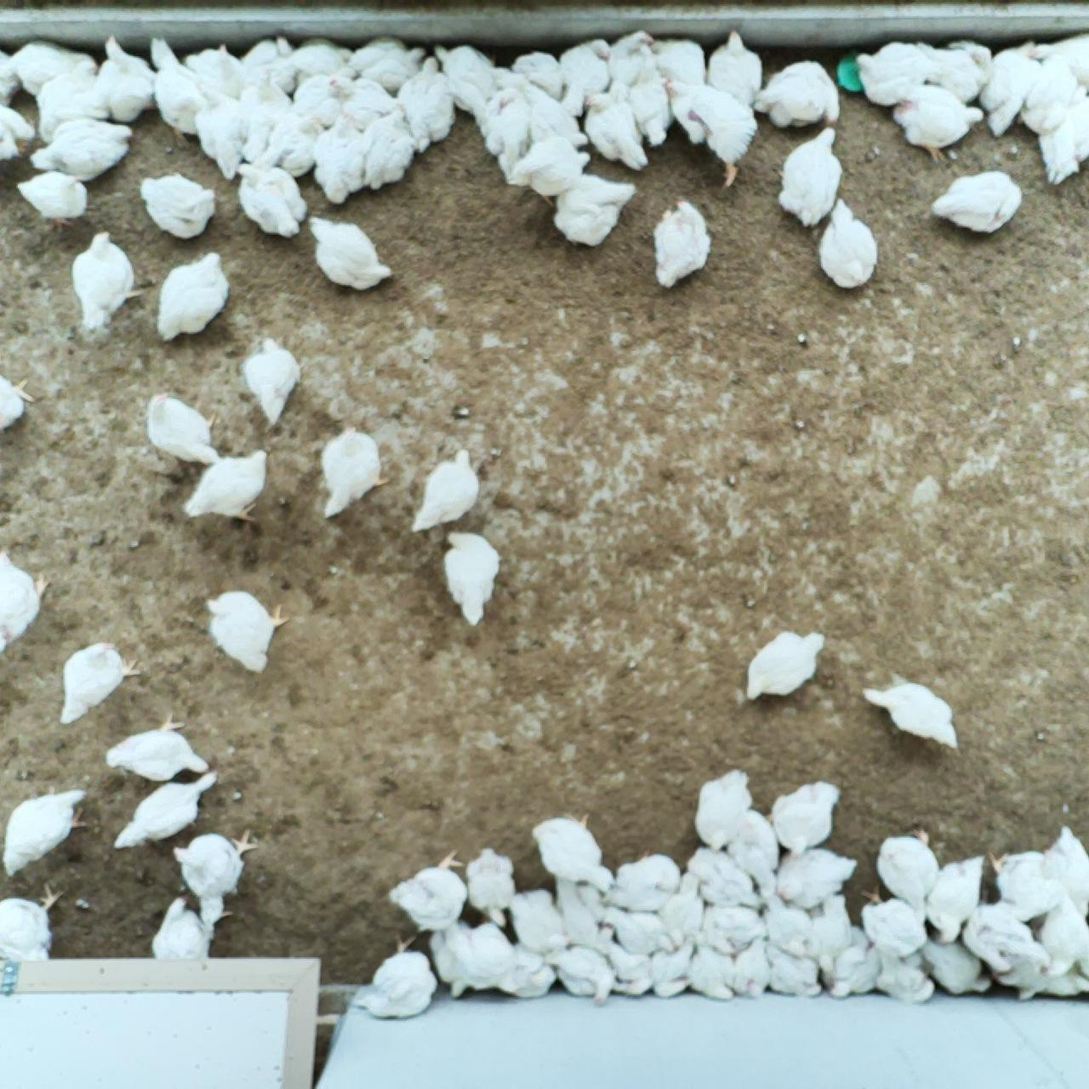chicken: (664, 74, 755, 187), (116, 768, 221, 853), (174, 829, 264, 925), (484, 100, 580, 184), (148, 34, 220, 141), (1, 790, 89, 876), (353, 931, 439, 1019), (204, 586, 288, 674), (101, 713, 212, 779), (70, 229, 143, 329), (887, 86, 986, 158), (976, 40, 1050, 135), (60, 640, 140, 727), (30, 118, 138, 182), (318, 424, 388, 521), (182, 448, 275, 521), (861, 684, 963, 750), (754, 60, 844, 134), (157, 251, 234, 337), (778, 129, 845, 227), (430, 918, 510, 1000), (536, 811, 614, 894), (310, 216, 392, 294), (390, 847, 468, 929), (546, 867, 621, 952), (409, 447, 481, 534), (553, 175, 635, 251), (745, 631, 828, 703), (874, 829, 940, 919), (144, 389, 222, 464), (989, 848, 1068, 921), (234, 67, 295, 161), (0, 544, 54, 650), (149, 893, 233, 961), (932, 172, 1024, 234), (765, 779, 844, 851), (237, 161, 310, 238), (94, 34, 159, 120), (964, 902, 1045, 971), (921, 855, 988, 938), (399, 58, 457, 153), (905, 44, 998, 103), (517, 129, 590, 204), (444, 530, 501, 626), (859, 887, 937, 957), (138, 172, 219, 239), (817, 200, 877, 290), (650, 197, 710, 286), (244, 333, 302, 425), (704, 30, 770, 110), (313, 115, 372, 203), (584, 93, 648, 174), (34, 73, 110, 141), (773, 849, 861, 907), (1038, 87, 1089, 187), (360, 111, 422, 193), (0, 886, 66, 963), (434, 44, 509, 111), (609, 845, 682, 913), (916, 934, 994, 997), (258, 106, 324, 180), (344, 34, 431, 90), (801, 894, 857, 981), (549, 940, 619, 1009), (232, 33, 305, 99), (13, 43, 99, 99), (692, 772, 754, 849), (464, 844, 520, 928), (603, 24, 669, 95), (821, 928, 887, 999), (558, 35, 617, 114), (1017, 58, 1079, 133), (15, 170, 89, 232), (725, 806, 780, 889), (1025, 30, 1089, 99), (509, 886, 573, 954), (854, 44, 929, 102), (197, 94, 248, 178), (467, 66, 540, 123), (984, 938, 1049, 1002), (283, 36, 360, 90), (640, 38, 711, 96), (689, 847, 757, 906), (328, 73, 406, 124), (602, 905, 680, 956), (1034, 904, 1089, 976), (758, 941, 827, 998), (1045, 824, 1089, 913), (294, 71, 359, 131), (184, 43, 251, 100), (625, 67, 673, 145), (761, 896, 820, 958), (497, 943, 558, 1002), (877, 945, 936, 1003), (601, 938, 657, 997), (693, 936, 742, 1003), (644, 944, 696, 1003), (509, 51, 569, 102), (704, 903, 766, 952), (1038, 949, 1089, 1004), (661, 873, 705, 936), (0, 369, 34, 435), (728, 940, 768, 995), (0, 100, 34, 163), (0, 46, 21, 106)
